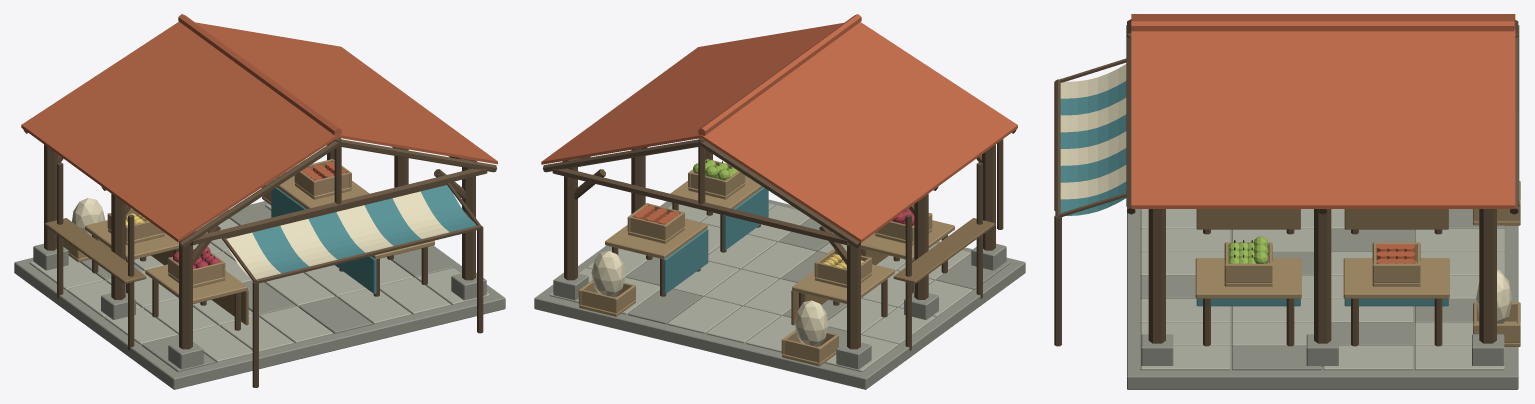
The model's file is market-hall.glb.
The picture shows the model from 3 angles, left to right: view 1: azimuth 30°, elevation 25°; view 2: azimuth 150°, elevation 25°; view 3: azimuth 270°, elevation 25°; orthographic projection. The views are drawn at different scales.
Visible parts, largest first — view 1: AwningFabric_mesh, RoofCourse.003_mesh, FloorCourse_mesh, Foundation_mesh, RoofCourse.001_mesh, RoofCourse.004_mesh, RoofCourse.005_mesh, RoofCourse.002_mesh, RoofCourse_mesh, RoofTrusses_mesh, FloorCourse.001_mesh, ArcadePosts_mesh (+14 smaller); view 2: RoofCourse.003_mesh, RoofCourse.004_mesh, Foundation_mesh, RoofCourse.001_mesh, RoofCourse.005_mesh, RoofCourse_mesh, RoofTrusses_mesh, RoofCourse.002_mesh, FloorCourse.002_mesh, FloorCourse.003_mesh, FloorCourse.001_mesh, BulkGoods_mesh (+14 smaller); view 3: RoofCourse.003_mesh, RoofCourse.004_mesh, RoofCourse.005_mesh, RoofCourse.001_mesh, RoofCourse.002_mesh, RoofCourse_mesh, Foundation_mesh, FloorCourse_mesh, AwningFabric_mesh, FloorCourse.003_mesh, FloorCourse.002_mesh, FloorCourse.001_mesh (+12 smaller).
Part boxes in pixels (x1,y1,x2,y2): AwningFabric_mesh: (226, 185, 476, 279); RoofCourse.003_mesh: (72, 33, 447, 208); FloorCourse_mesh: (141, 268, 490, 371); Foundation_mesh: (14, 201, 505, 389); RoofCourse.001_mesh: (125, 24, 394, 173); RoofCourse.004_mesh: (45, 37, 474, 226); RoofCourse.005_mesh: (21, 42, 497, 242); RoofCourse.002_mesh: (103, 29, 421, 191); RoofCourse_mesh: (151, 22, 367, 156); RoofTrusses_mesh: (23, 14, 496, 247); FloorCourse.001_mesh: (104, 248, 452, 344); ArcadePosts_mesh: (168, 159, 486, 369); RoofCourse.003_mesh: (591, 33, 967, 209); RoofCourse.004_mesh: (564, 39, 994, 227); Foundation_mesh: (534, 199, 1025, 389); RoofCourse.001_mesh: (644, 25, 914, 174); RoofCourse.005_mesh: (541, 43, 1017, 242); RoofCourse_mesh: (671, 22, 887, 157); RoofTrusses_mesh: (543, 14, 1016, 247); RoofCourse.002_mesh: (618, 30, 935, 192); FloorCourse.002_mesh: (587, 248, 935, 344); FloorCourse.003_mesh: (549, 268, 898, 371); FloorCourse.001_mesh: (707, 225, 972, 317); BulkGoods_mesh: (578, 251, 838, 366); RoofCourse.003_mesh: (1131, 18, 1515, 149); RoofCourse.004_mesh: (1131, 16, 1515, 179); RoofCourse.005_mesh: (1131, 14, 1515, 208); RoofCourse.001_mesh: (1131, 23, 1515, 91); RoofCourse.002_mesh: (1131, 21, 1515, 120); RoofCourse_mesh: (1131, 26, 1515, 61); Foundation_mesh: (1127, 209, 1518, 389); FloorCourse_mesh: (1140, 209, 1230, 370); AwningFabric_mesh: (1060, 64, 1126, 215); FloorCourse.003_mesh: (1415, 209, 1504, 370); FloorCourse.002_mesh: (1323, 209, 1413, 370); FloorCourse.001_mesh: (1232, 209, 1321, 370).
Bounding box in the file's own units: 5.55 × 3.42 × 5.36.
